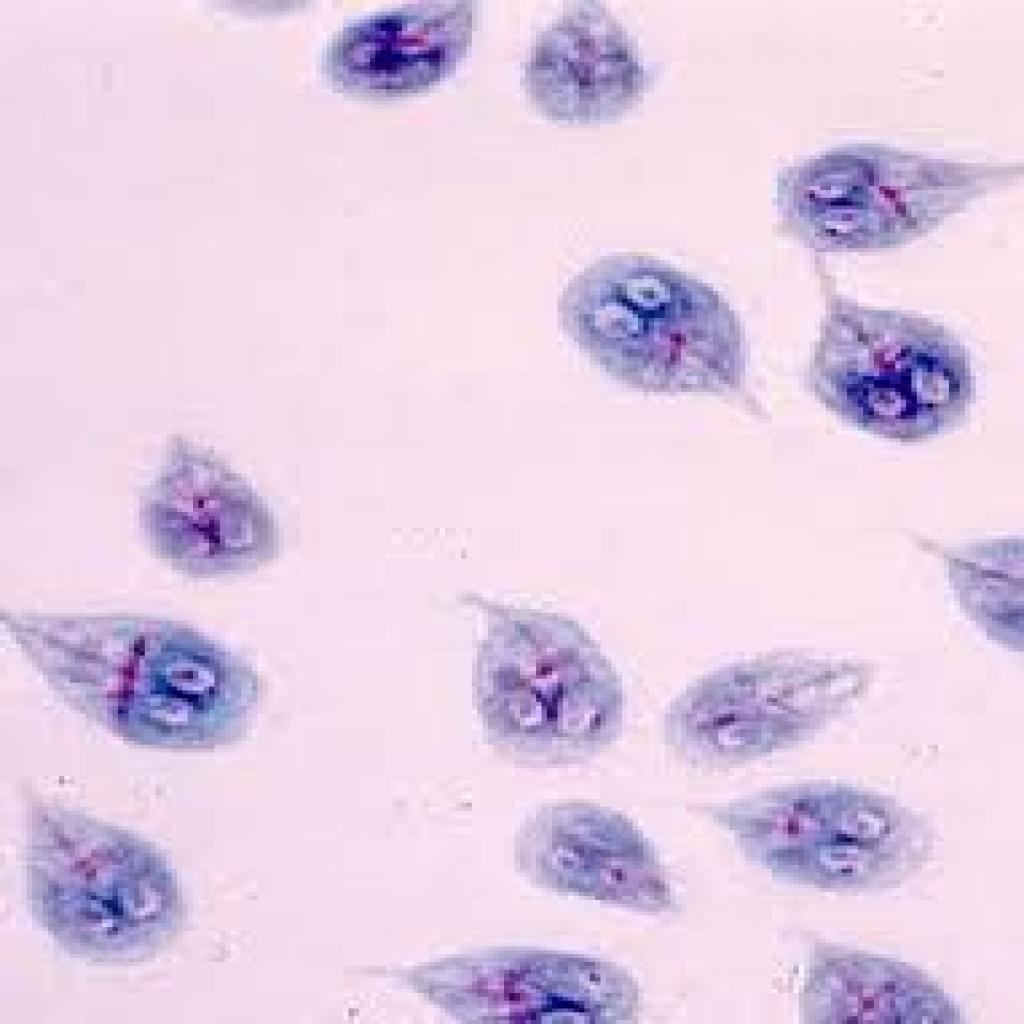Giardia: (0, 597, 273, 752), (552, 248, 772, 431), (5, 776, 193, 977), (766, 128, 1024, 264), (445, 586, 633, 768), (793, 260, 976, 446), (676, 780, 954, 900), (649, 640, 879, 776), (493, 787, 686, 927), (128, 422, 290, 586), (348, 938, 643, 1024), (305, 0, 487, 112), (514, 0, 660, 132), (767, 927, 965, 1024), (900, 523, 1024, 651)
